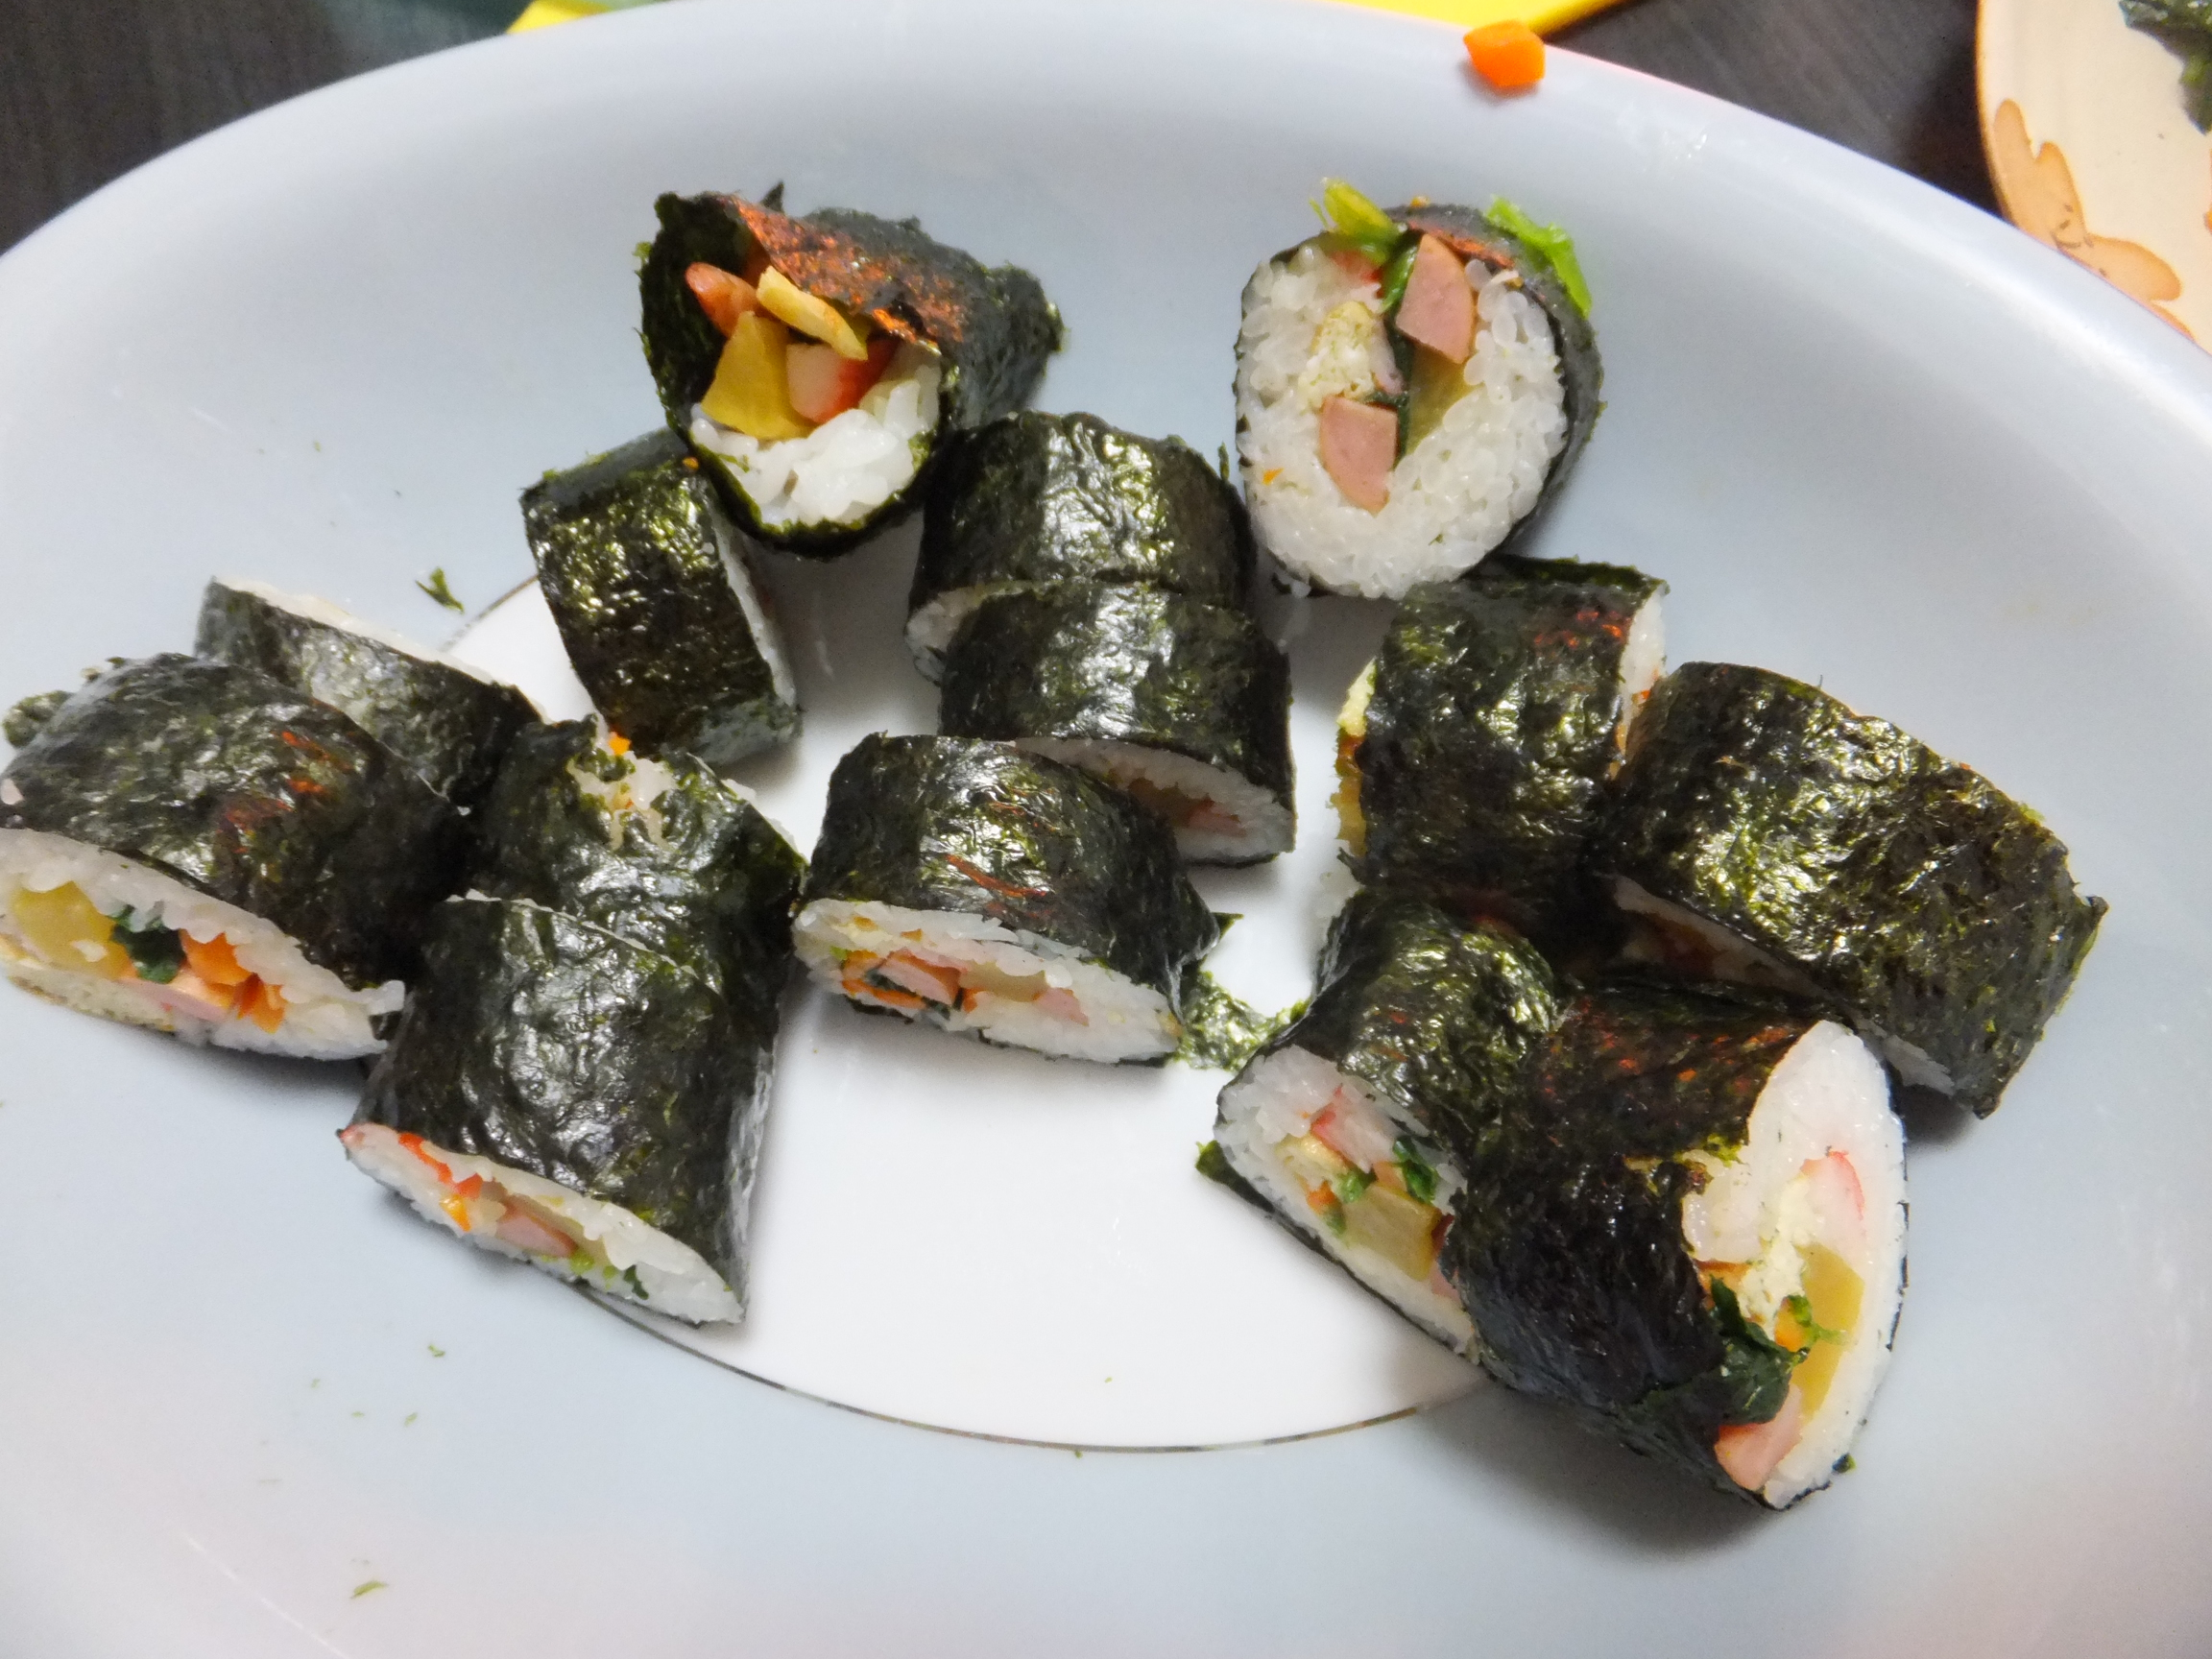gimbab: (3, 173, 2132, 1558)
